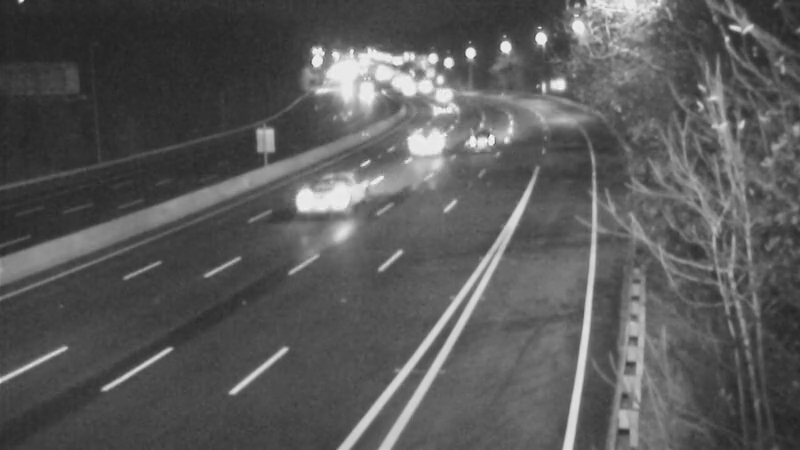vehicle: (271, 156, 351, 236), (379, 65, 429, 115), (419, 69, 469, 119), (422, 87, 472, 137), (395, 116, 445, 166), (459, 117, 509, 167)
